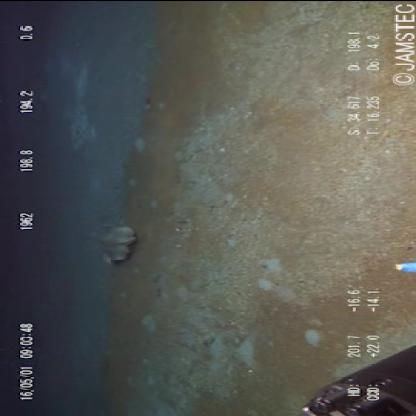Bio: (94, 220, 146, 268)
Rov: (292, 340, 414, 416)
